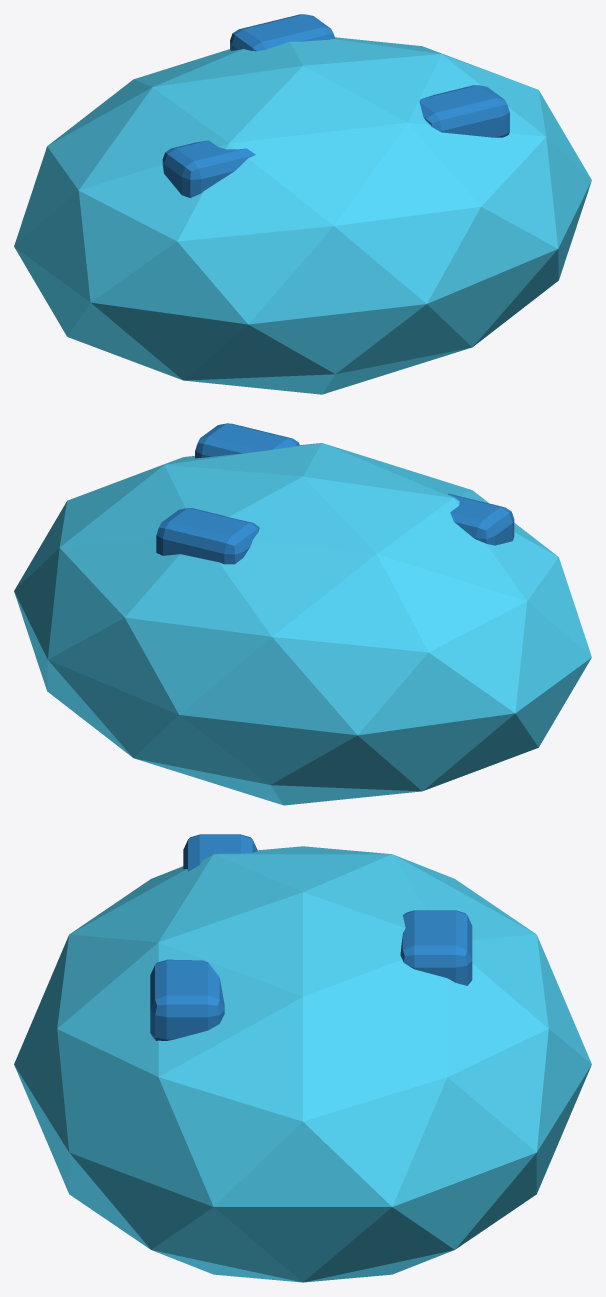
Rendered from ram_dough.glb.
3 renders of one model, top to bottom at view 1: azimuth 30°, elevation 25°; view 2: azimuth 150°, elevation 25°; view 3: azimuth 270°, elevation 25°, orthographic. The views are drawn at different scales.
Visible parts, largest first — view 1: Mixture, Inclusion; view 2: Mixture, Inclusion; view 3: Mixture, Inclusion.
Part boxes in pixels (<box>): Mixture: <box>14,37,591,394</box>; Inclusion: <box>162,14,509,197</box>; Mixture: <box>14,443,591,805</box>; Inclusion: <box>156,423,514,564</box>; Mixture: <box>14,846,591,1282</box>; Inclusion: <box>150,834,472,1040</box>.
Bounding box in the file's own units: 0.8179 × 0.46 × 0.7.
